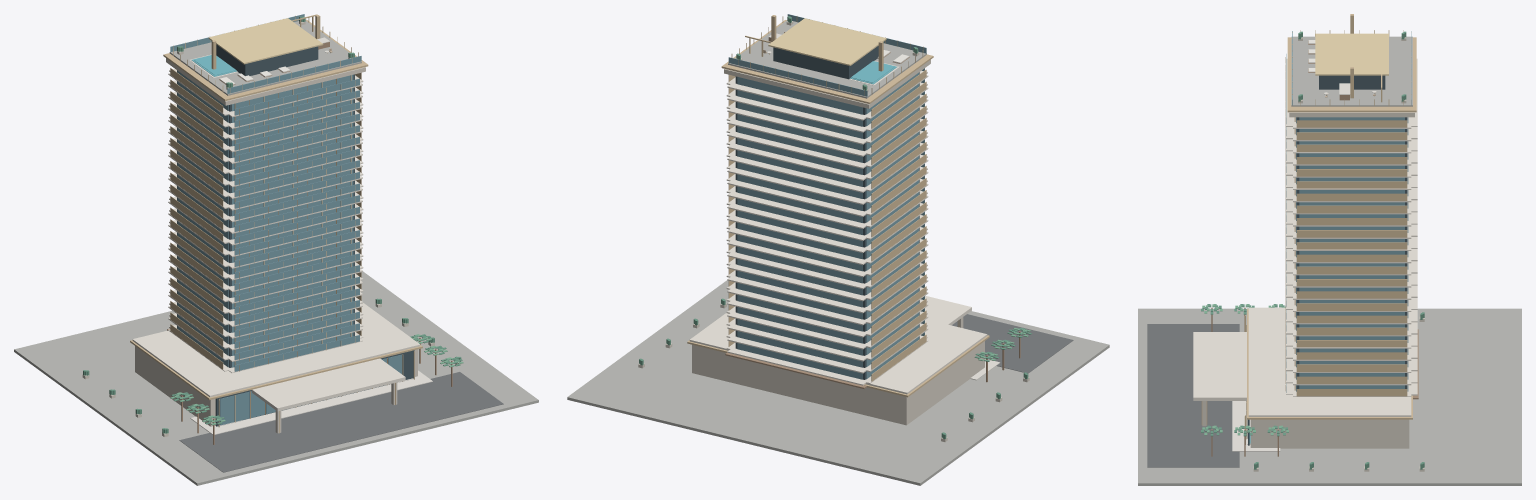
File: hotel.glb
3 renders of one model, left to right at view 1: azimuth 30°, elevation 25°; view 2: azimuth 150°, elevation 25°; view 3: azimuth 270°, elevation 25°, orthographic. The views are drawn at different scales.
Parts seen in each view (by area): view 1: glass, stone, ivory, bronze, road, limestone, obsidian, gold, marble, foliage; view 2: stone, ivory, glass, bronze, limestone, gold, road, obsidian, wood, foliage; view 3: stone, bronze, ivory, glass, road, limestone, gold, obsidian, marble, foliage, wood.
Part boxes in pixels (left/top/right/bottom): glass: left=170, top=14, right=402, bottom=425; stone: left=14, top=21, right=538, bottom=485; ivory: left=132, top=69, right=420, bottom=411; bronze: left=130, top=14, right=422, bottom=433; road: left=179, top=372, right=503, bottom=472; limestone: left=82, top=21, right=461, bottom=437; obsidian: left=177, top=44, right=414, bottom=426; gold: left=208, top=18, right=323, bottom=64; marble: left=189, top=37, right=432, bottom=434; foliage: left=83, top=16, right=462, bottom=433; stone: left=567, top=20, right=1109, bottom=485; ivory: left=689, top=70, right=987, bottom=394; glass: left=728, top=14, right=926, bottom=379; bronze: left=687, top=15, right=989, bottom=397; limestone: left=638, top=21, right=1029, bottom=441; gold: left=768, top=18, right=886, bottom=65; road: left=952, top=314, right=1073, bottom=373; obsidian: left=735, top=46, right=919, bottom=379; wood: left=725, top=37, right=1020, bottom=388; foliage: left=639, top=16, right=1031, bottom=438; stone: left=1138, top=36, right=1521, bottom=485; bronze: left=1201, top=14, right=1416, bottom=444; ivory: left=1193, top=58, right=1417, bottom=416; glass: left=1247, top=31, right=1411, bottom=438; road: left=1147, top=324, right=1239, bottom=467; limestone: left=1202, top=36, right=1424, bottom=471; gold: left=1315, top=33, right=1388, bottom=75; obsidian: left=1248, top=75, right=1407, bottom=445; marble: left=1232, top=83, right=1376, bottom=451; foliage: left=1201, top=31, right=1424, bottom=469; wood: left=1211, top=41, right=1418, bottom=456.
Size of the model in its own units: 112 by 107 by 104.
